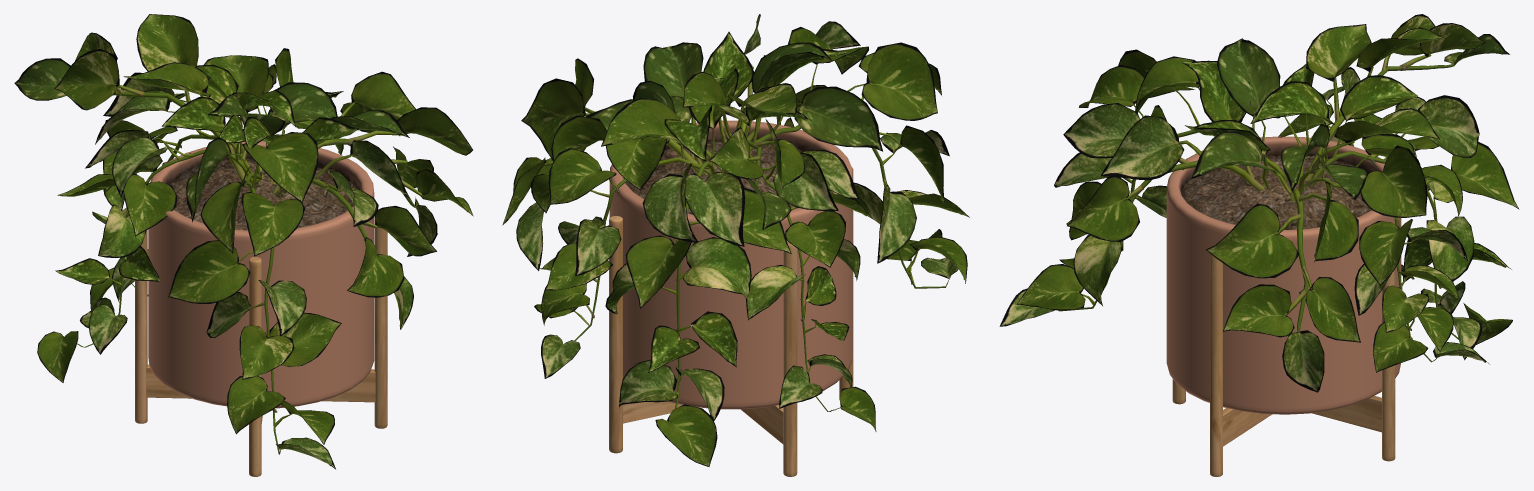
File: plant.glb
The picture shows the model from 3 angles, left to right: view 1: azimuth 30°, elevation 25°; view 2: azimuth 150°, elevation 25°; view 3: azimuth 270°, elevation 25°; orthographic projection. The views are drawn at different scales.
Visible parts, largest first — view 1: POTHOS, POT_WOOD_LEGS; view 2: POTHOS, POT_WOOD_LEGS; view 3: POTHOS, POT_WOOD_LEGS.
Part boxes in pixels (bbox=[...]): POTHOS: bbox=[14, 14, 473, 469]; POT_WOOD_LEGS: bbox=[135, 141, 387, 476]; POTHOS: bbox=[502, 14, 969, 466]; POT_WOOD_LEGS: bbox=[609, 120, 853, 476]; POTHOS: bbox=[999, 14, 1519, 392]; POT_WOOD_LEGS: bbox=[1166, 136, 1401, 476].
Bounding box in the file's own units: 0.8266 × 0.7918 × 0.9741.
2 materials, 2 textured.
